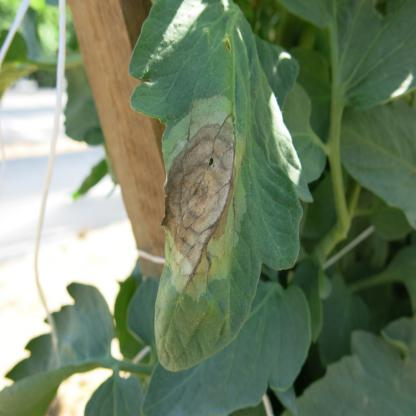potato leaf late blight: (128, 1, 333, 378)
